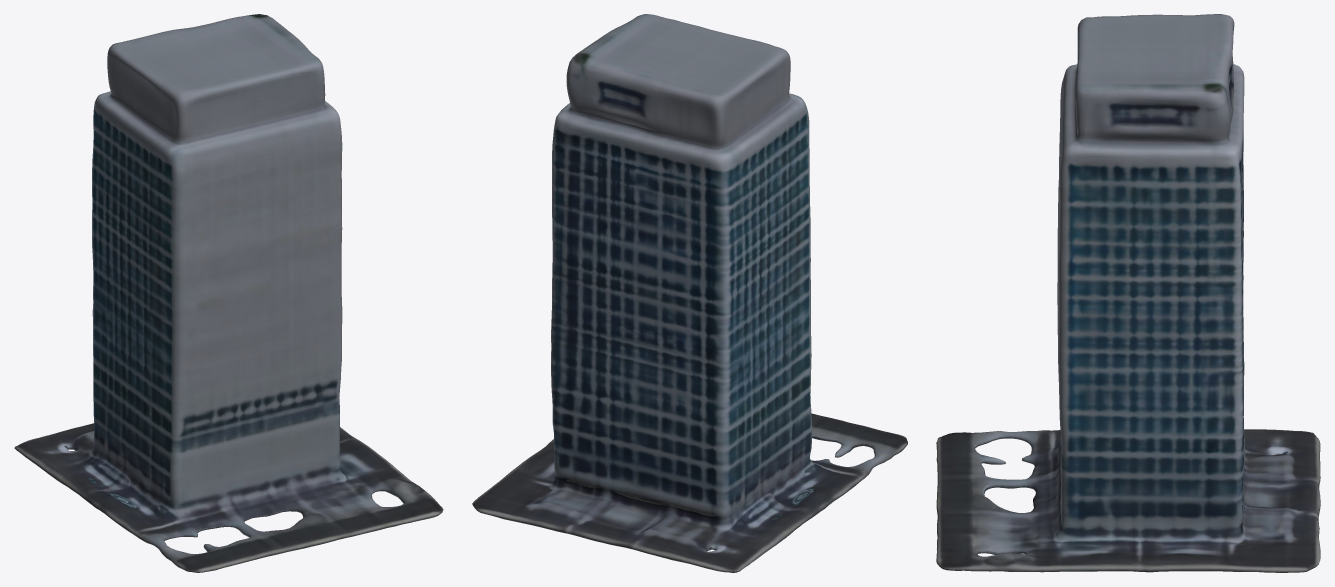
The picture shows the model from 3 angles, left to right: view 1: azimuth 30°, elevation 25°; view 2: azimuth 150°, elevation 25°; view 3: azimuth 270°, elevation 25°; orthographic projection. The views are drawn at different scales.
Visible parts, largest first — view 1: mesh; view 2: mesh; view 3: mesh.
Boxes of the visible parts, x1,y1,x2,y2 form: mesh: (14,14,443,572); mesh: (472,14,907,572); mesh: (936,14,1320,572).
Bounding box in the file's own units: 0.6504 × 0.9981 × 0.7549.
1 material, 1 textured.
